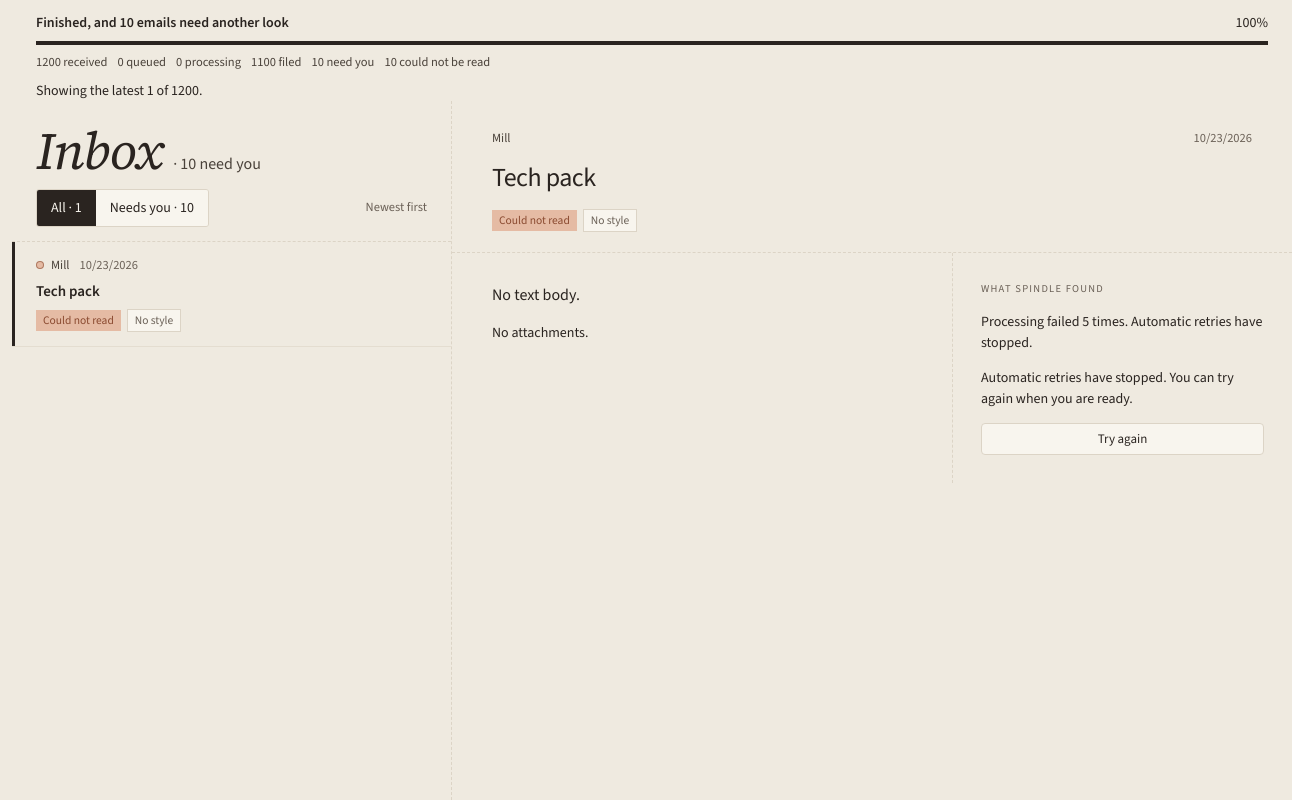
Test case: Inbox › shows persisted batch progress and retries a failed email without dropping it
Check: the text "1200 received" is shown, box [36,53,107,72]
Check: the text "10 need you" is shown, box [311,53,374,72]
Click the button "Try again" at (1122,438), box [981,422,1264,454]
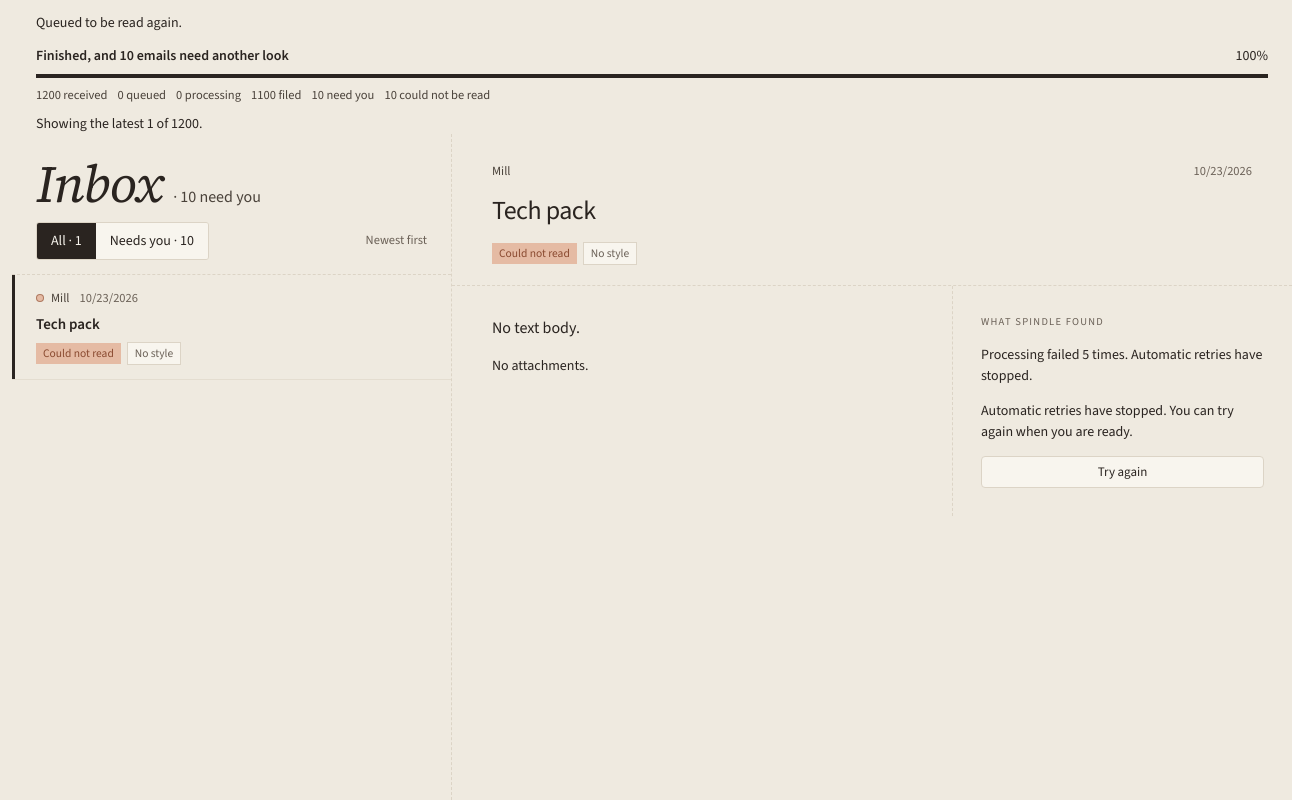
Check: the text "Queued to be read again." is shown, box [36,13,182,32]
